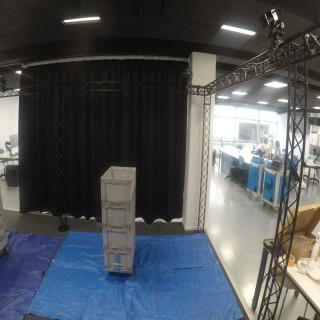Box4G: (102, 189, 138, 230), (104, 212, 138, 252), (102, 167, 139, 203), (105, 235, 137, 274)
